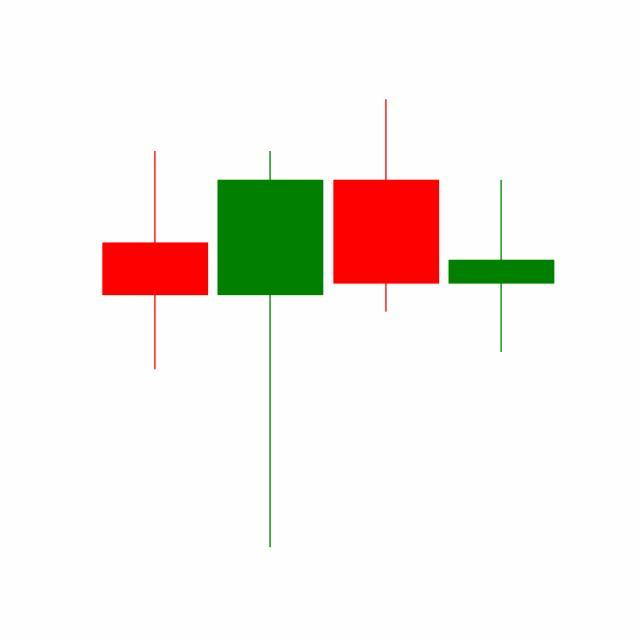Spinning Top: (444, 178, 560, 355)
